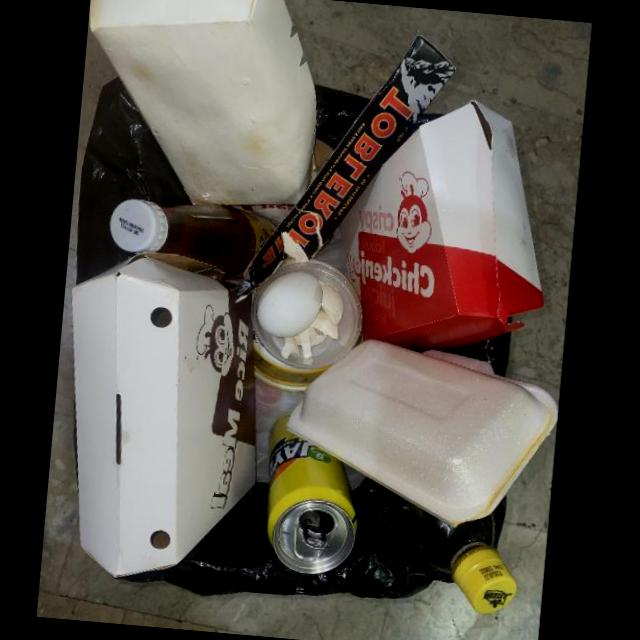carton: (73, 252, 257, 578), (240, 33, 458, 301), (317, 98, 540, 355), (90, 0, 317, 205)
chai_nhua: (408, 499, 517, 612)
chai_thuy_tinh: (110, 200, 280, 285)
nhom: (266, 405, 358, 575)
vo_trung: (257, 271, 323, 337), (281, 327, 326, 357), (321, 283, 343, 326), (315, 311, 339, 340)
xop: (284, 339, 557, 528)
